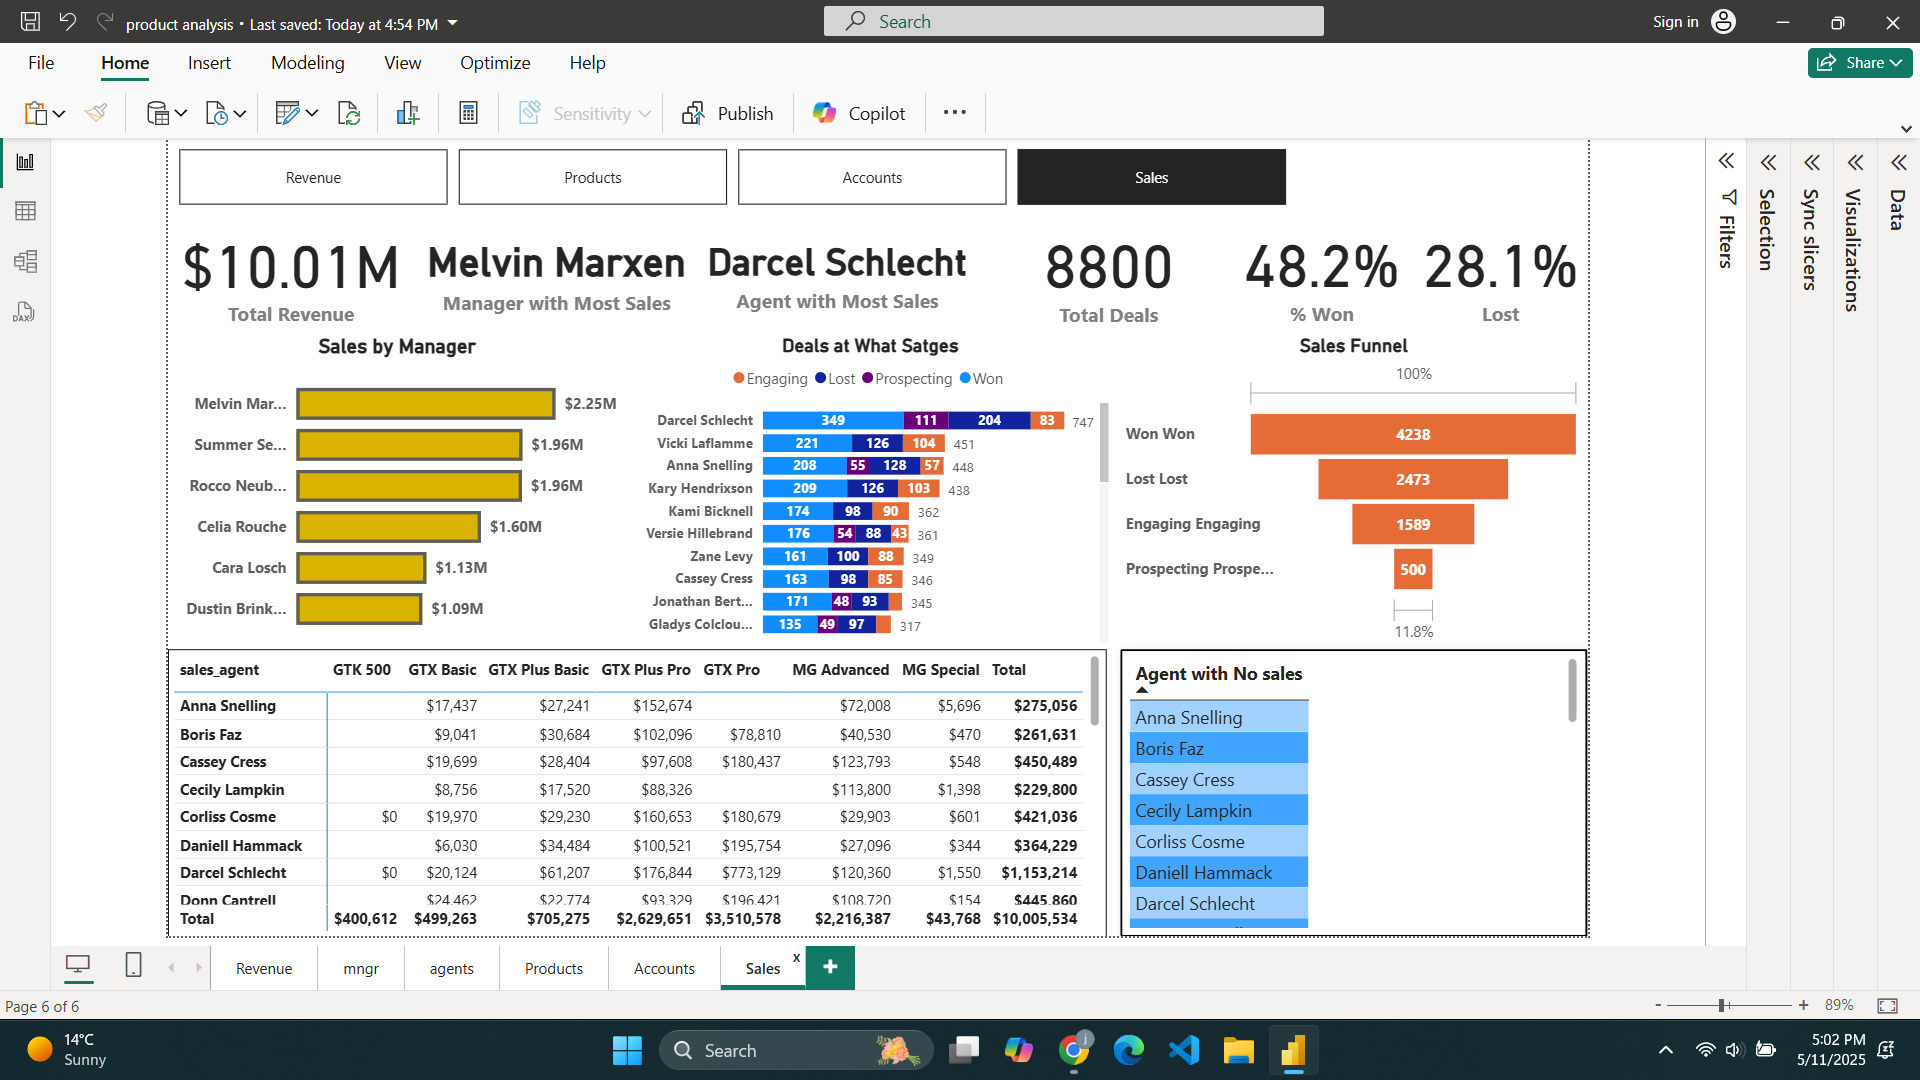

This screenshot's page, from the dashboard's own definition file:
{"tool":"powerbi","page":{"name":"Sales","canvas":[1280,720],"ordinal":5},"visuals":[{"type":"barChart","title":"Sales by Manager","fields":{"Category":["sales_teams.manager"],"Y":["Sum(sales_pipeline.close_value)"]},"box":[0,177.5,413.3,283],"z":0},{"type":"card","fields":{"Values":["Sum(sales_pipeline.close_value)"]},"box":[2.3,61.6,218.2,116.7],"z":1000},{"type":"card","fields":{"Values":["sales_pipeline.Win Percentage"]},"box":[960.5,61.6,160.9,116.5],"z":2000},{"type":"barChart","title":"Deals at What Satges","fields":{"Category":["sales_pipeline.sales_agent"],"Y":["sales_pipeline.dealscount"],"Series":["sales_pipeline.deal_stage"]},"box":[413.3,177.5,439.4,283],"z":3000},{"type":"funnel","title":"Sales Funnel","fields":{"Category":["sales_pipeline.deal_stage","sales_pipeline.deal_stage"],"Y":["sales_pipeline.dealscount"]},"box":[859,177.5,420.8,283],"z":4000},{"type":"pivotTable","fields":{"Rows":["sales_pipeline.sales_agent"],"Columns":["products.product"],"Values":["Sum(sales_pipeline.close_value)"]},"box":[0,460.5,846.6,260.7],"z":5000},{"type":"tableEx","fields":{"Values":["sales_pipeline.sales_agent"]},"box":[859,460.5,420.8,259.4],"z":6000},{"type":"card","fields":{"Values":["sales_pipeline.Lost Percentage"]},"box":[1121.4,61.6,160.9,116.5],"z":8000},{"type":"card","fields":{"Values":["Min(sales_teams.manager (groups))"]},"box":[220.9,61.6,259.8,116.2],"z":9000},{"type":"card","fields":{"Values":["Min(sales_pipeline.sales_agent (groups))"]},"box":[480.7,61.6,247.3,116.2],"z":10000},{"type":"card","fields":{"Values":["CountNonNull(sales_pipeline.deal_stage)"]},"box":[769.2,61.6,159.9,117.4],"z":11000},{"type":"pageNavigator","box":[10,10,1000,50],"z":12000}]}

Visuals, with their boxes on the page's 1280x720 design canvas (x1, y1, x2, y2). These are canvas units, not pixel positions in the 1920x1080 screenshot, which may show the page scaled, cropped or inside an application window:
"Sales by Manager" barChart: [x1=0, y1=178, x2=413, y2=460]
card - Sum(sales_pipeline.close_value): [x1=2, y1=62, x2=220, y2=178]
card - sales_pipeline.Win Percentage: [x1=960, y1=62, x2=1121, y2=178]
"Deals at What Satges" barChart: [x1=413, y1=178, x2=853, y2=460]
"Sales Funnel" funnel: [x1=859, y1=178, x2=1280, y2=460]
pivotTable - sales_pipeline.sales_agent x products.product: [x1=0, y1=460, x2=847, y2=721]
tableEx - sales_pipeline.sales_agent: [x1=859, y1=460, x2=1280, y2=720]
card - sales_pipeline.Lost Percentage: [x1=1121, y1=62, x2=1282, y2=178]
card - Min(sales_teams.manager (groups)): [x1=221, y1=62, x2=481, y2=178]
card - Min(sales_pipeline.sales_agent (groups)): [x1=481, y1=62, x2=728, y2=178]
card - CountNonNull(sales_pipeline.deal_stage): [x1=769, y1=62, x2=929, y2=179]
pageNavigator: [x1=10, y1=10, x2=1010, y2=60]
